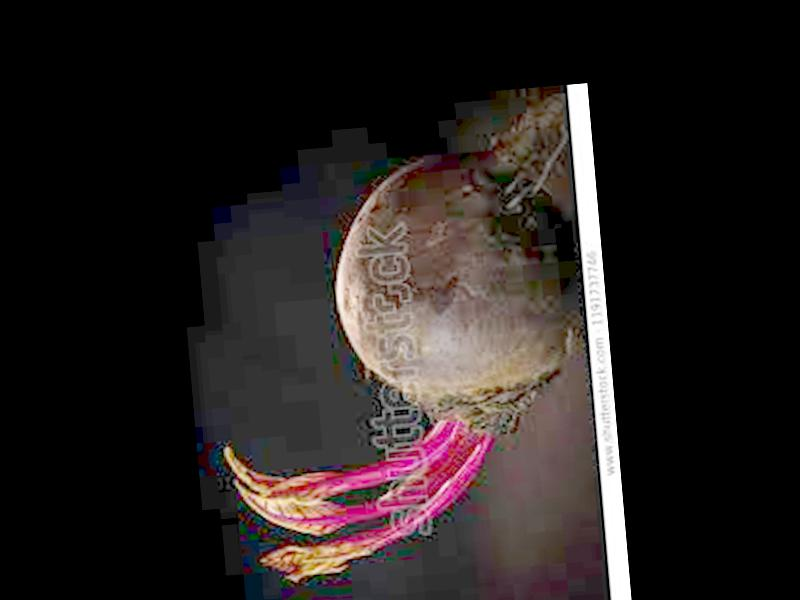Beet: (195, 84, 605, 584)
